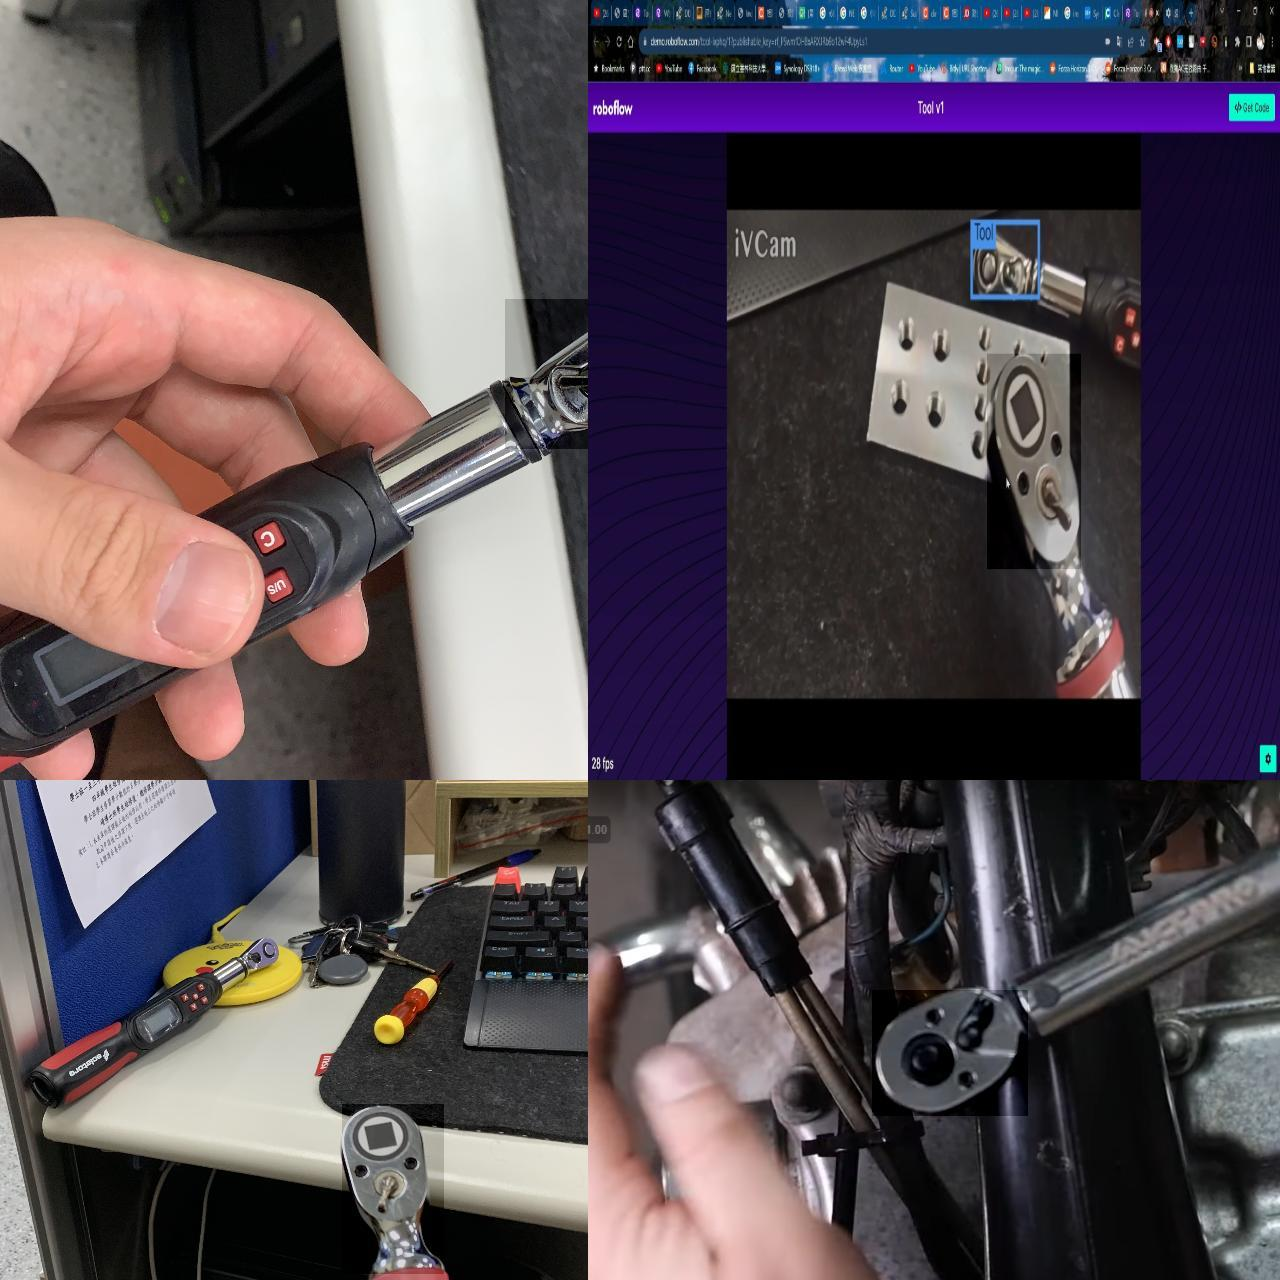Tool: (989, 355, 1082, 567), (871, 992, 1026, 1118), (342, 1102, 443, 1273), (504, 299, 586, 454)
hole: (920, 384, 952, 436), (894, 315, 921, 359), (931, 324, 951, 370), (888, 374, 908, 418), (975, 325, 995, 354), (972, 431, 988, 462), (973, 394, 990, 422), (975, 359, 988, 384), (1013, 341, 1023, 359), (1039, 348, 1047, 367)
